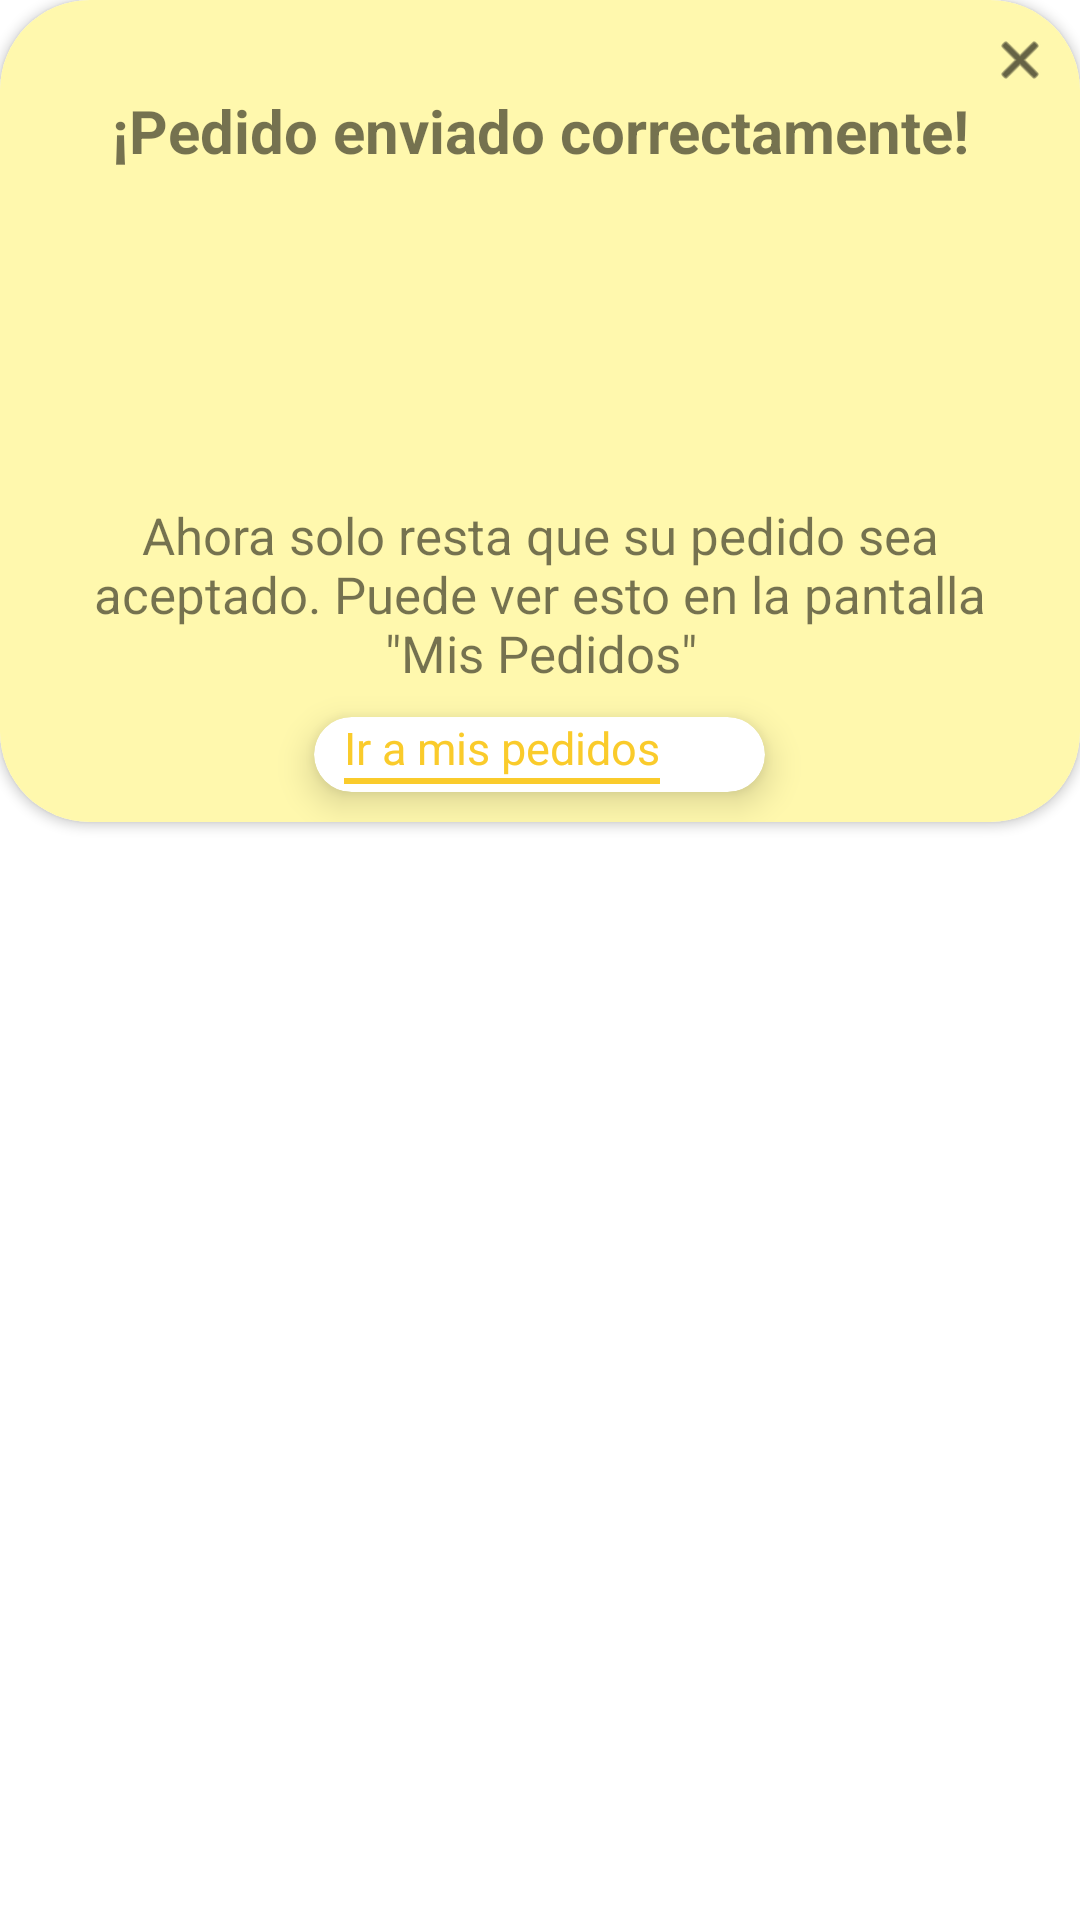

Point at icon controls on the screen. Image size 1080px×1920px, points as point (x, y).
close clear cancel: point (1020, 60)
